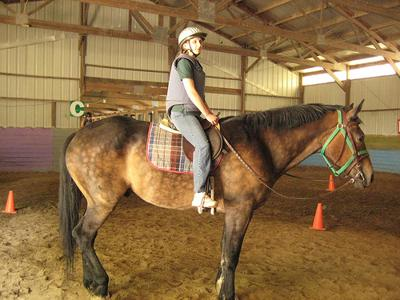person: (165, 26, 223, 211)
